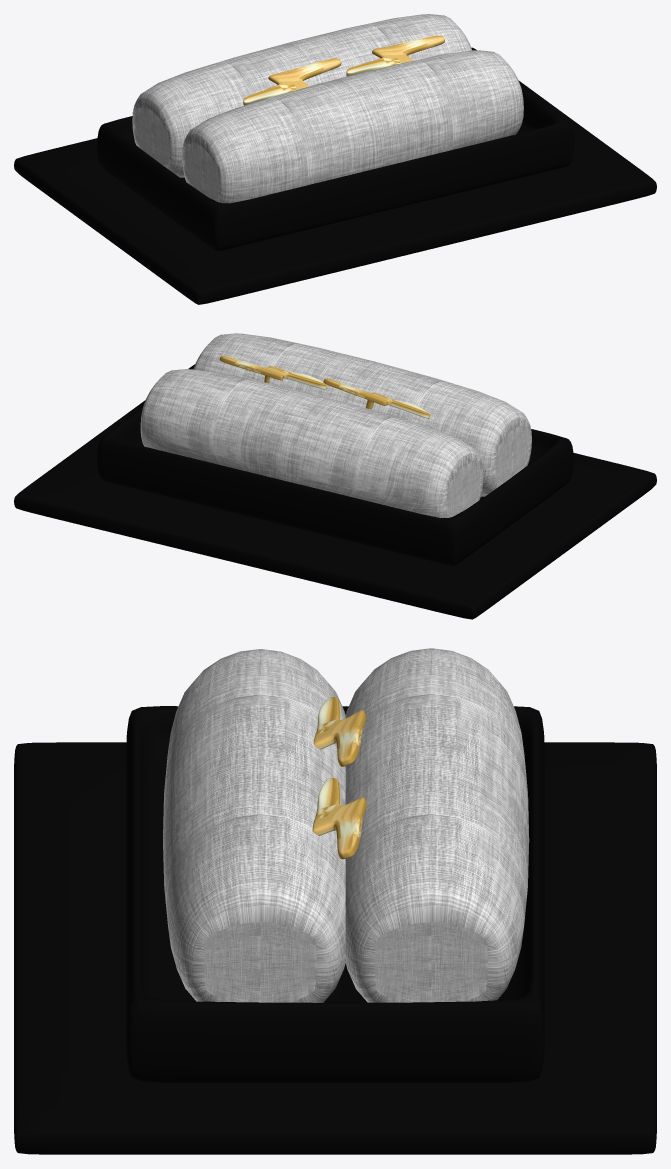
The model's file is Ginaearring.fbx.
The picture shows the model from 3 angles, top to bottom: view 1: azimuth 30°, elevation 25°; view 2: azimuth 150°, elevation 25°; view 3: azimuth 270°, elevation 25°; orthographic projection. The views are drawn at different scales.
Visible parts, largest first — view 1: pCube1, pCylinder2, pCube2, pCylinder3, Ginalightingbottleearring1, Ginalightingbottleearring; view 2: pCube1, pCylinder3, pCube2, pCylinder2, Ginalightingbottleearring, Ginalightingbottleearring1; view 3: pCube1, pCylinder3, pCylinder2, pCube2, Ginalightingbottleearring, Ginalightingbottleearring1.
Part boxes in pixels (x1,y1,x2,y2): pCube1: (14,47,656,304); pCylinder2: (182,50,523,203); pCube2: (97,87,573,250); pCylinder3: (132,14,471,177); Ginalightingbottleearring1: (243,58,341,105); Ginalightingbottleearring: (346,35,444,76); pCube1: (14,364,656,619); pCylinder3: (140,369,483,517); pCube2: (97,407,573,565); pCylinder2: (193,333,531,496); Ginalightingbottleearring: (219,356,327,389); Ginalightingbottleearring1: (323,378,430,418); pCube1: (14,742,656,1154); pCylinder3: (345,648,529,1002); pCylinder2: (163,649,345,1002); pCube2: (126,706,544,1082); Ginalightingbottleearring: (312,778,366,859); Ginalightingbottleearring1: (313,697,366,766).
Bounding box in the file's own units: 9.2 × 2.32 × 6.38.
